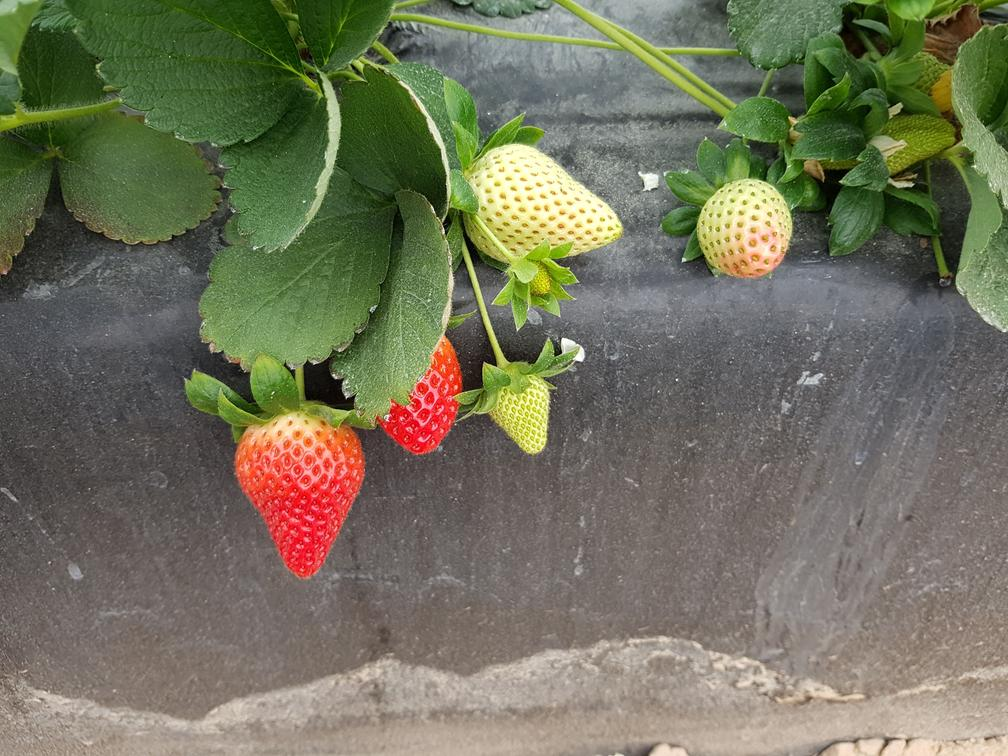Ripe: (231, 431, 375, 586), (396, 354, 465, 470)
Unripe: (470, 136, 630, 267), (690, 169, 801, 285), (482, 360, 569, 456)
